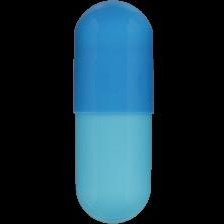16590-136: (0, 0, 224, 224)
